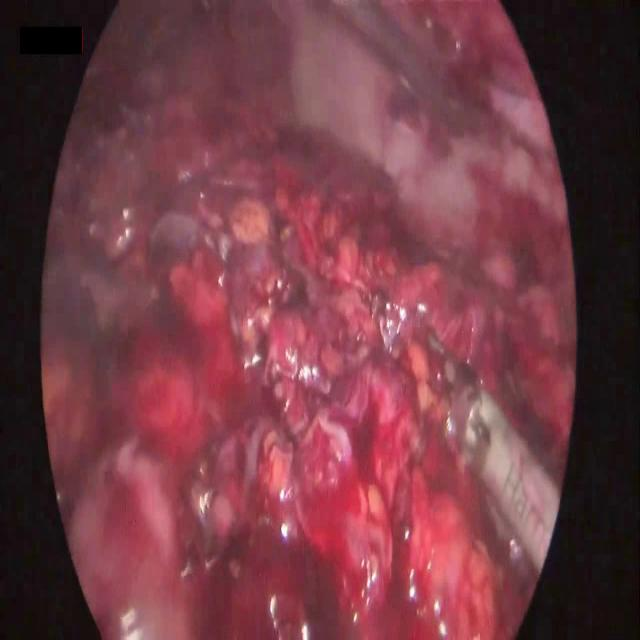surgical-area: (34, 2, 578, 639)
surgical-tool: (441, 372, 564, 578)
